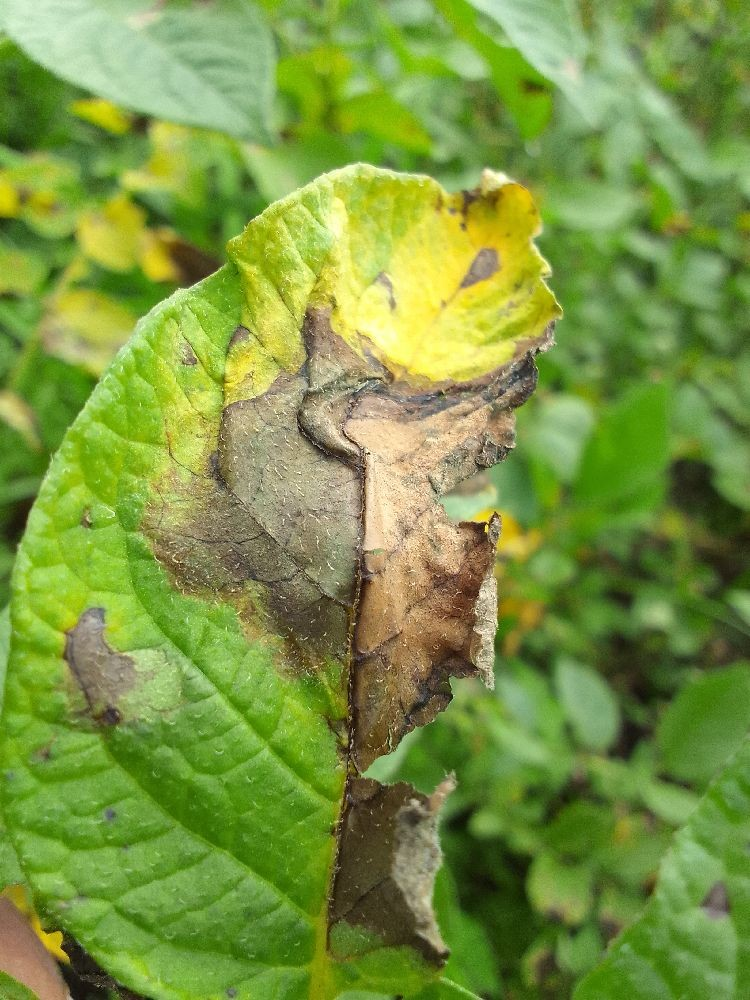late_blight: (125, 161, 575, 978), (554, 585, 750, 816), (554, 433, 750, 630), (0, 870, 162, 1000)
